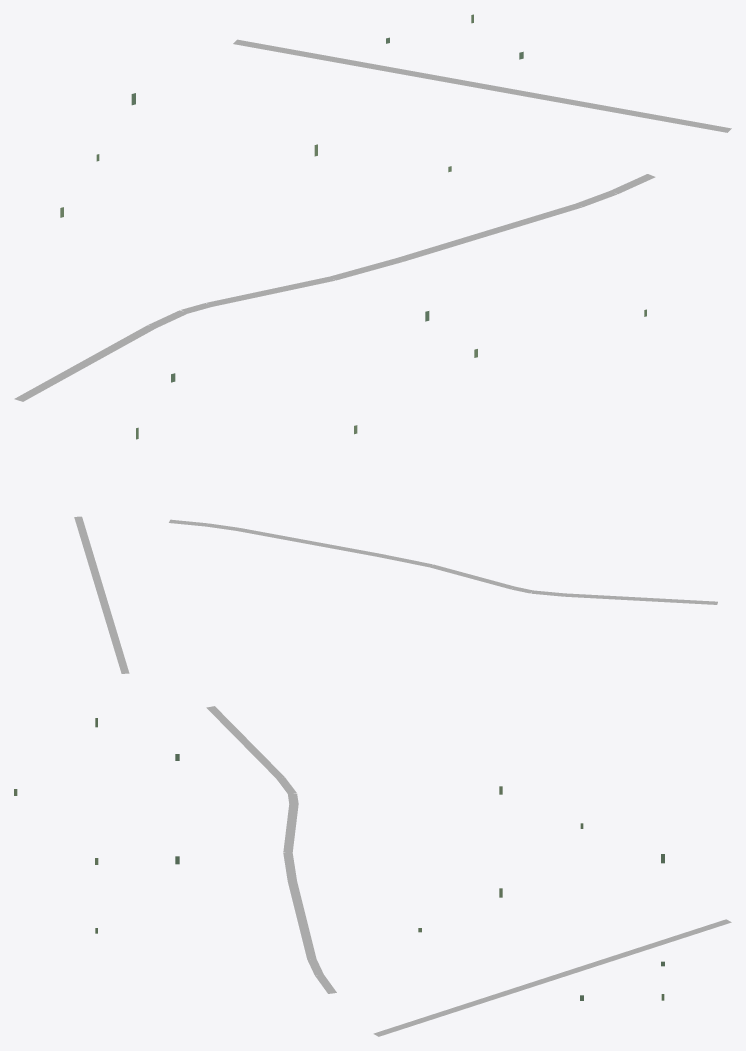
3 views of the same model, one above another, from view 1: azimuth 30°, elevation 25°; view 2: azimuth 150°, elevation 25°; view 3: azimuth 270°, elevation 25° (orthographic). The views are drawn at different scales.
Size of the model in its own units: 579 by 9.39 by 533.
